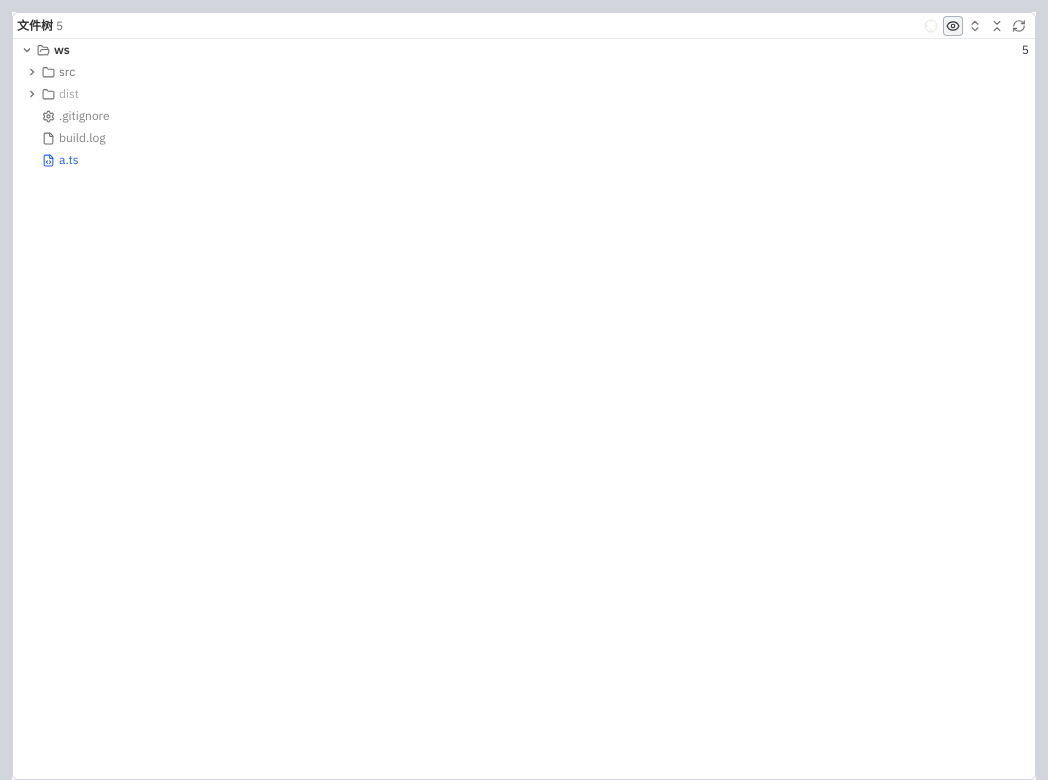
Test: FileTree 忽略开关（spec §6.3 方案 A） › 再点一次恢复显示
Expected: the list item "dist" is shown, [13,83,1035,105]
Click the button named "隐藏被忽略文件": (953, 26) [943,16,963,36]
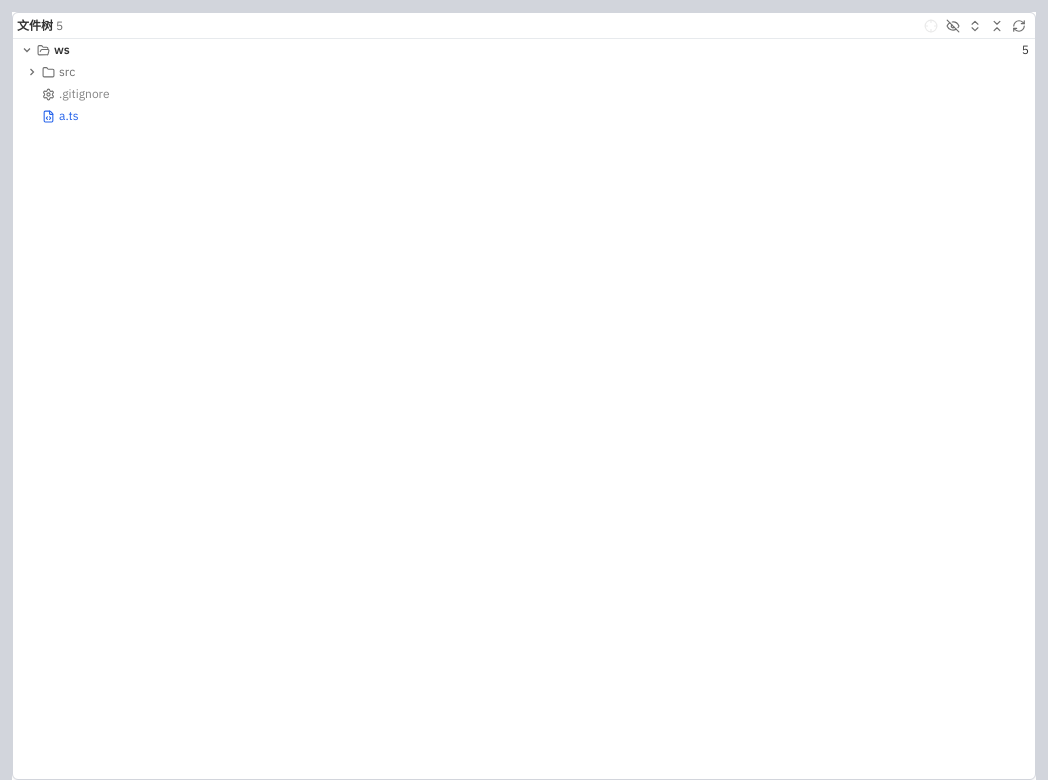
Click the button named "显示被忽略文件": (953, 26) [943,16,963,36]
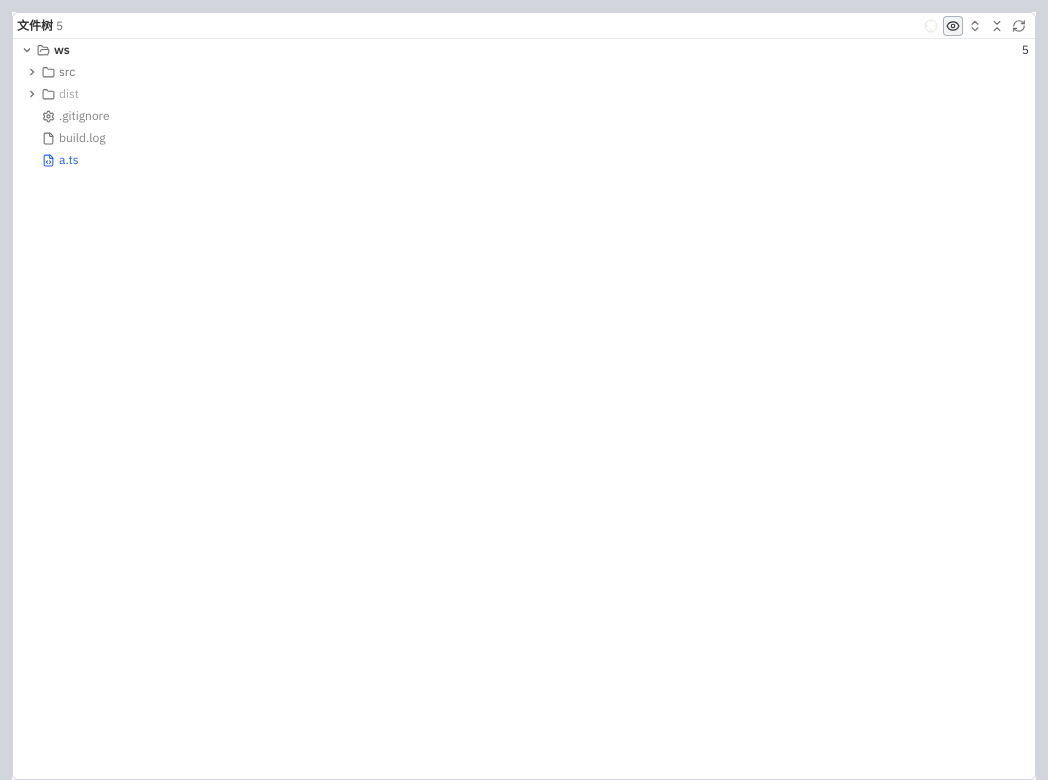
Now the list item "dist" is shown, box [13,83,1035,105]
